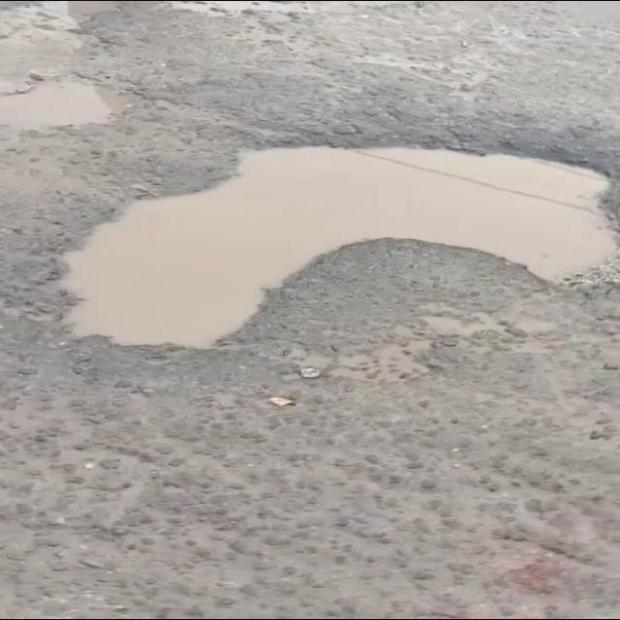lubang: (63, 147, 615, 347), (0, 76, 151, 131), (0, 2, 114, 53)
